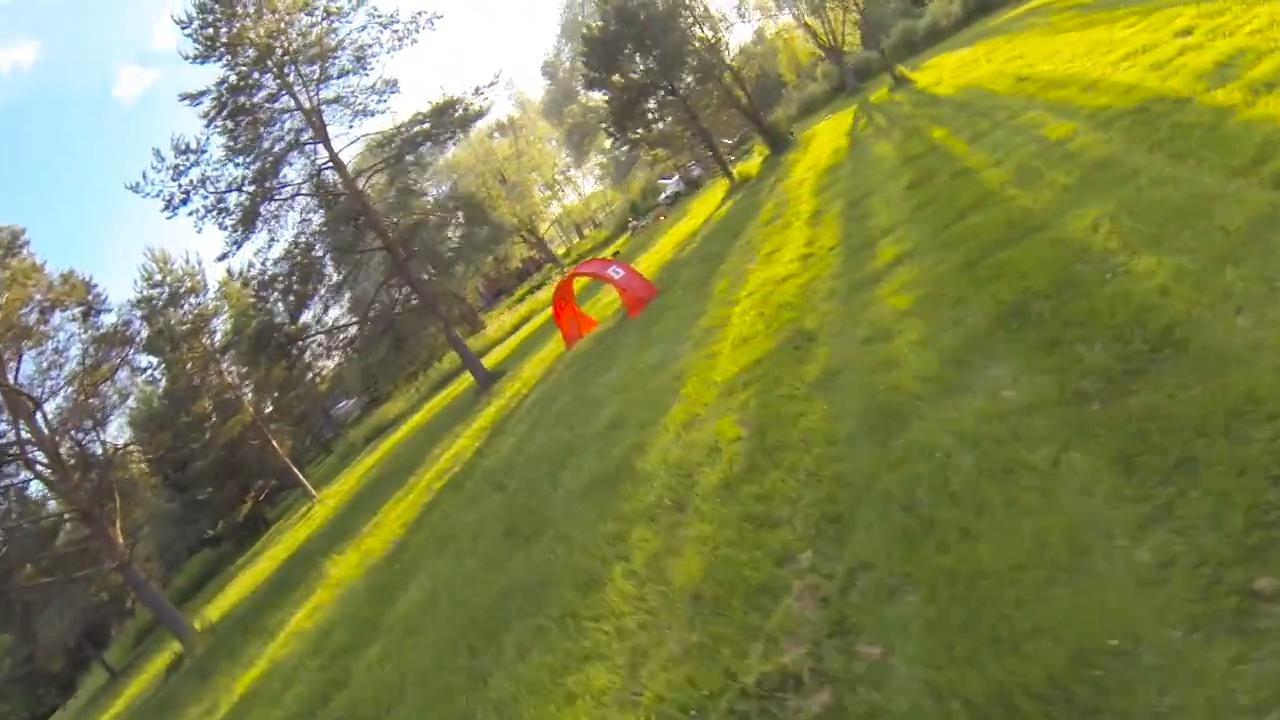gate: (548, 259, 656, 349)
